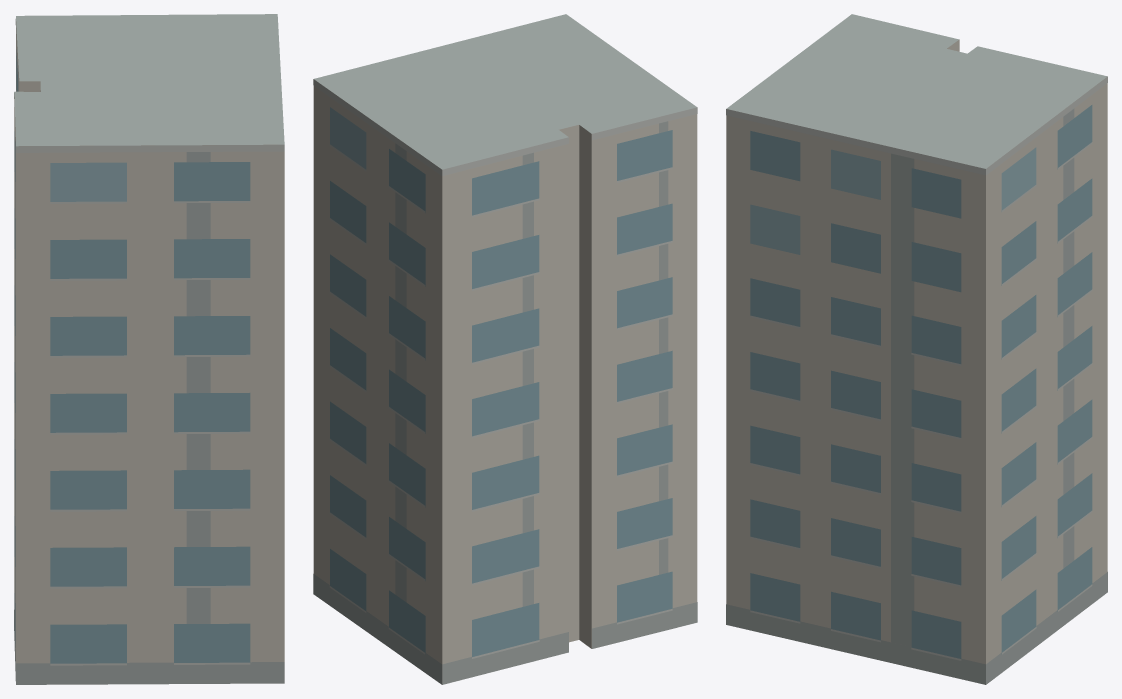
The model's file is survey-upis-32996165.glb.
3 views of the same model, side by side, from view 1: azimuth 30°, elevation 25°; view 2: azimuth 150°, elevation 25°; view 3: azimuth 270°, elevation 25° (orthographic). The views are drawn at different scales.
Parts seen in each view (by area): view 1: survey-upis-32996165.tmp; view 2: survey-upis-32996165.tmp; view 3: survey-upis-32996165.tmp.
Part boxes in pixels (x1,y1,x2,y2): survey-upis-32996165.tmp: (14, 14, 284, 684); survey-upis-32996165.tmp: (313, 14, 697, 684); survey-upis-32996165.tmp: (726, 14, 1107, 684).
Size of the model in its own units: 12.44 by 19.3 by 12.95.
